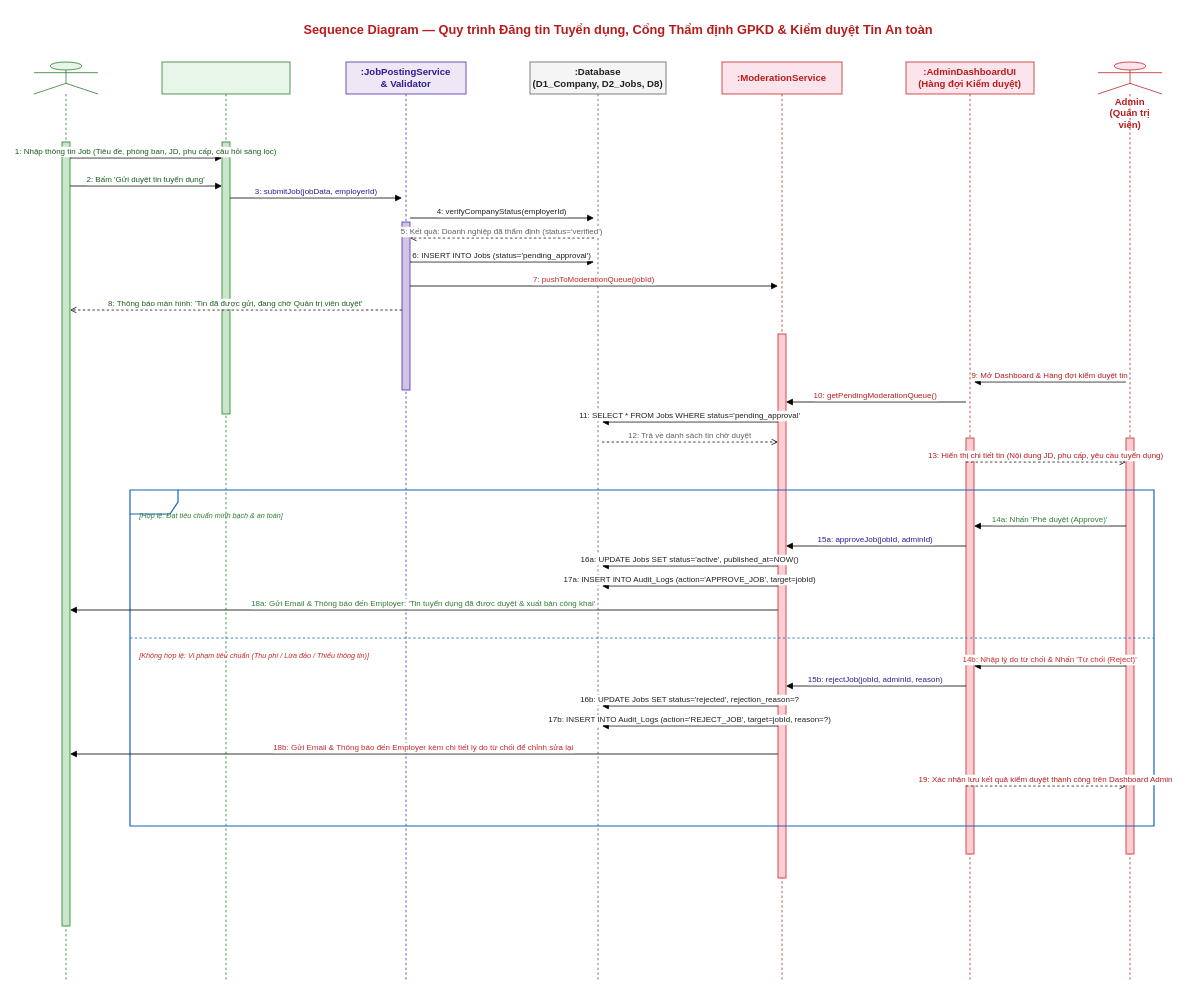
Some shapes in this 1187 by 996 pixel diagram are drawn without their labels. Each missing label, with the box of its shape:
:PostJobUI (Trang Soạn thảo tin): (161, 61, 290, 982)
alt [Quyết định Kiểm duyệt]: (129, 489, 1154, 826)
Employer (Doanh nghiệp): (33, 61, 98, 982)
